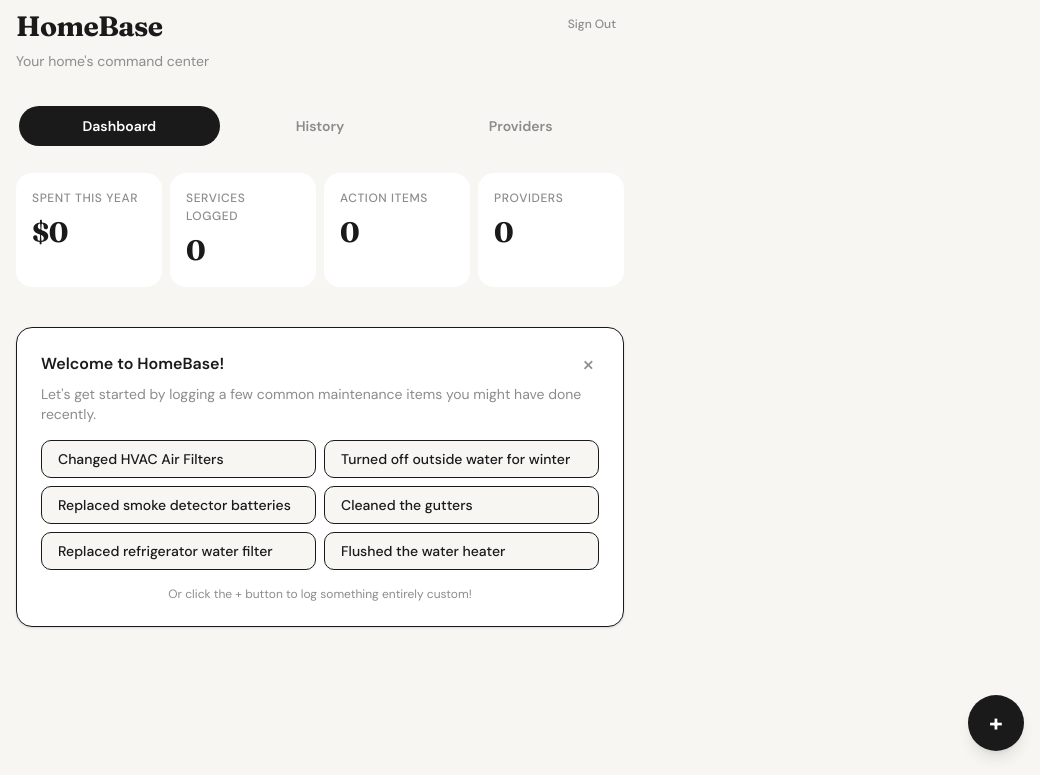
App › switches to Providers tab
Click the button "Providers". click: (521, 126)
box: [420, 106, 621, 146]
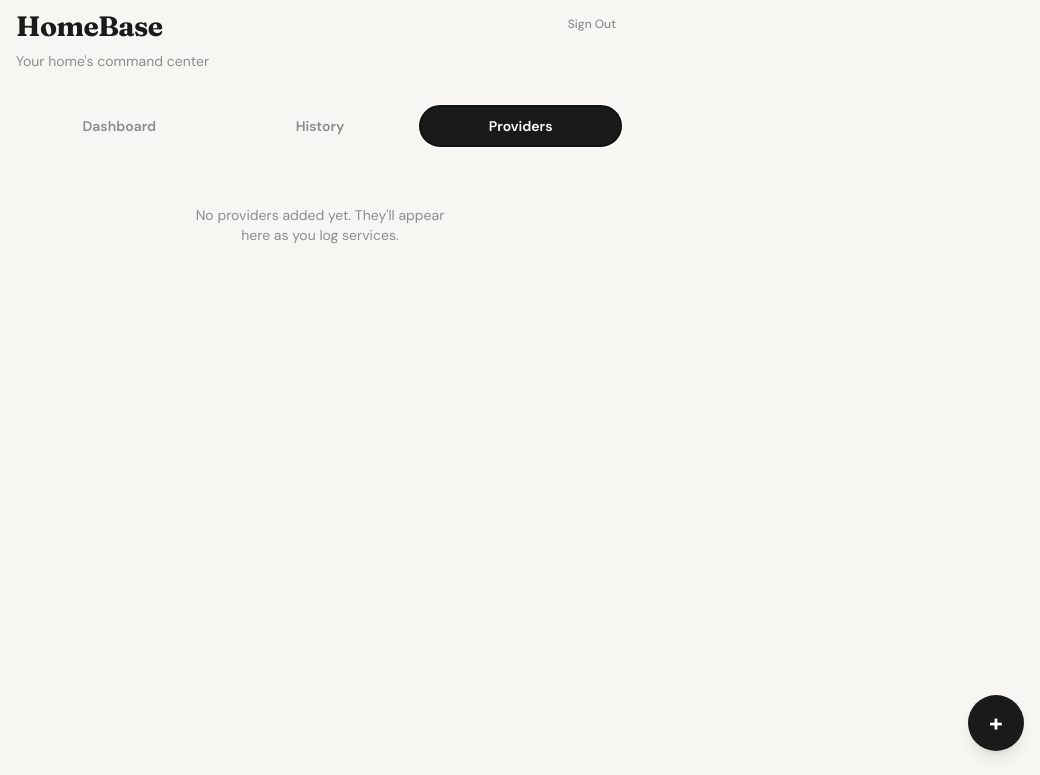
Expected: the text "No providers added yet" is shown, [196, 206, 444, 244]
